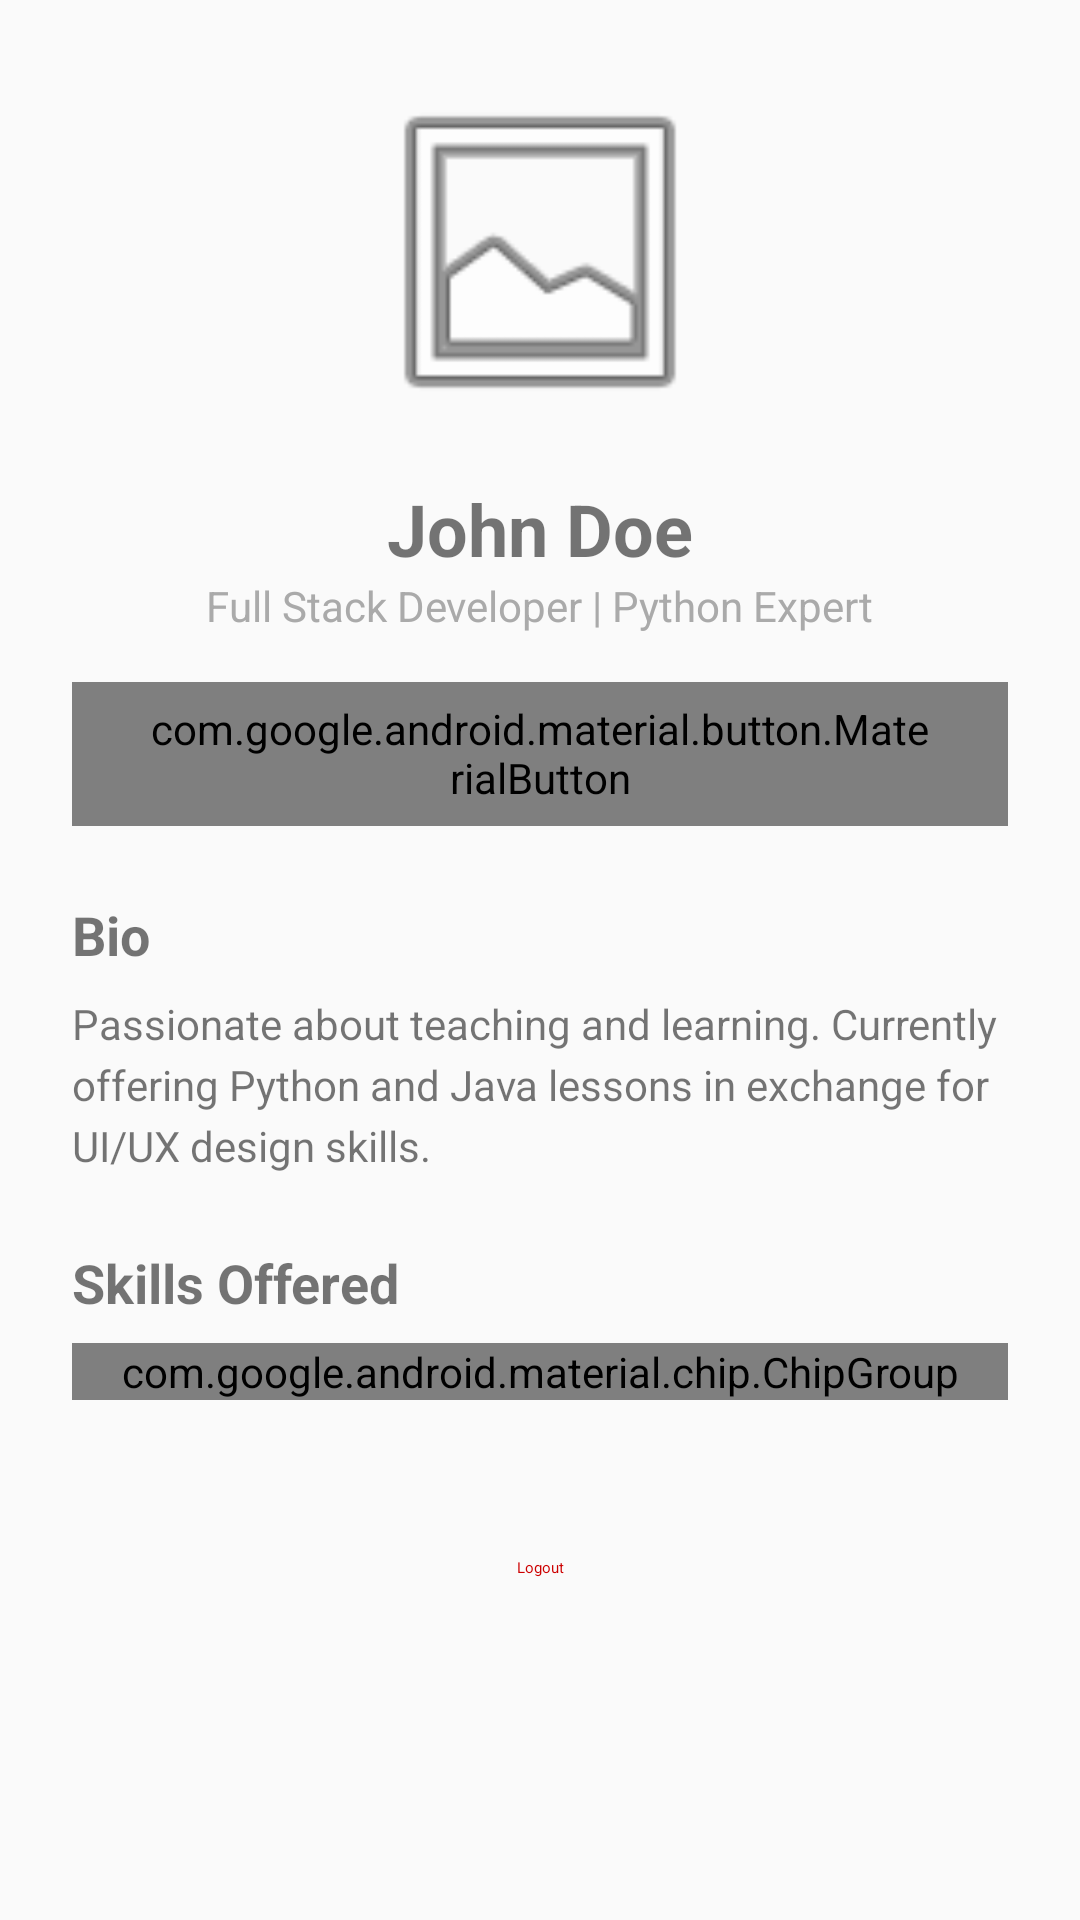

Named icons in this screenshot (1080px x 1920px) and their bounding boxes, (x1, y1, x2, y2):
gallery: (404, 116, 676, 388)
